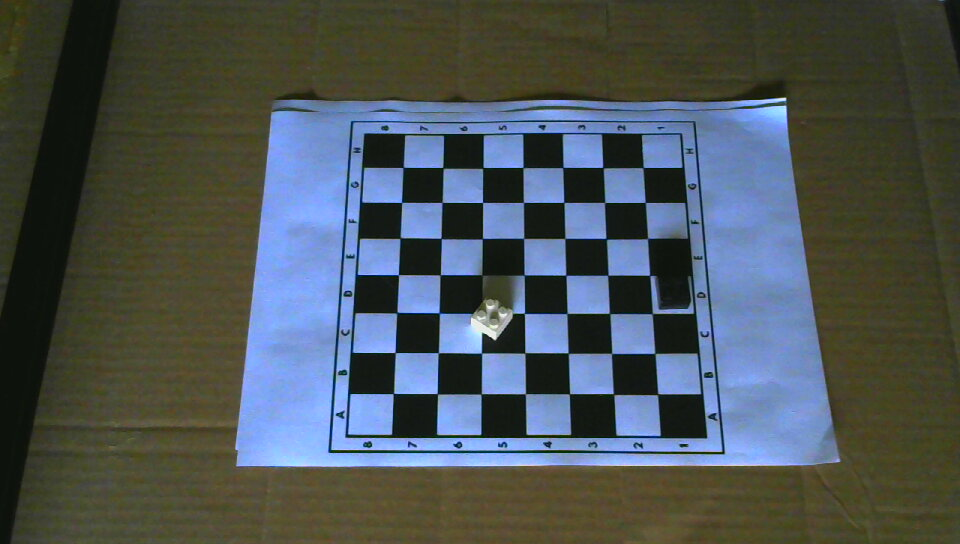bp: (655, 271, 692, 308)
wp: (469, 292, 516, 340)
